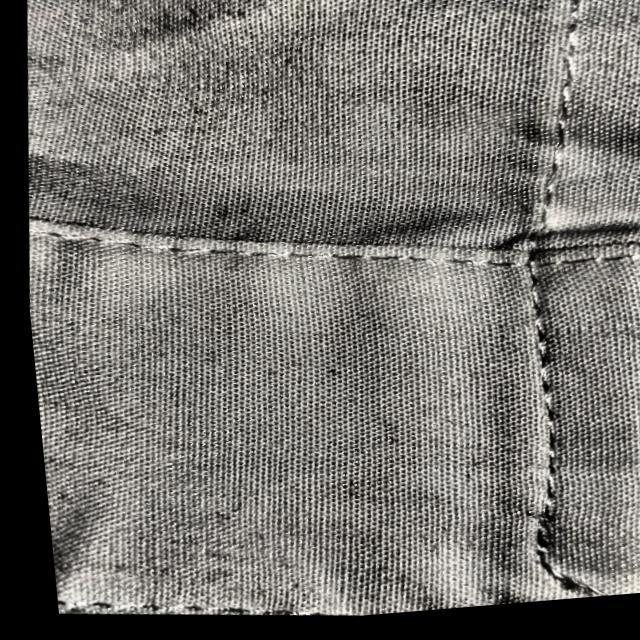Stitch: (508, 525, 640, 610)
